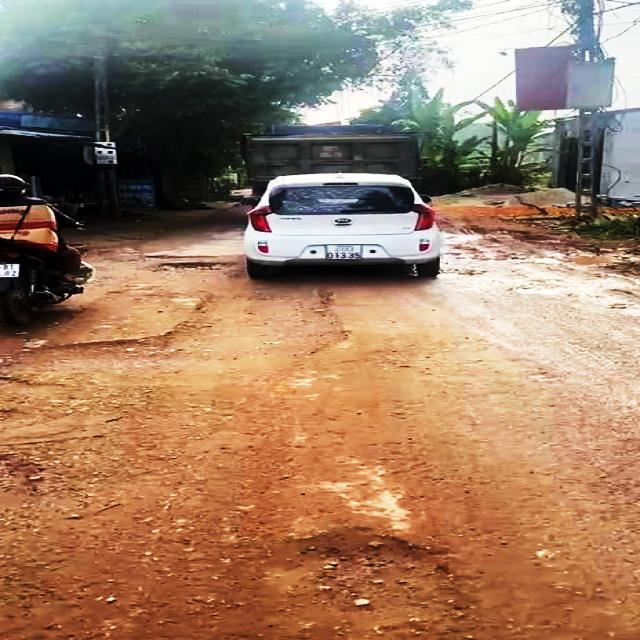pothole: (273, 525, 476, 640), (23, 324, 370, 368), (146, 256, 232, 276)
